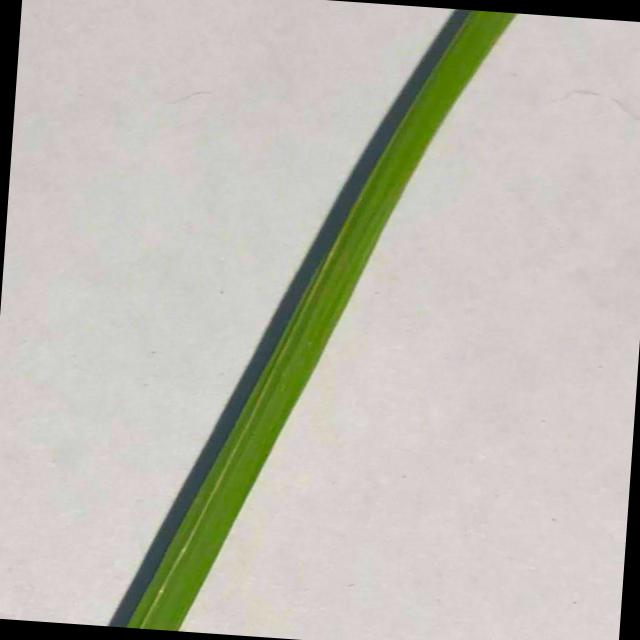Rice_Healthy: (108, 9, 515, 630)
